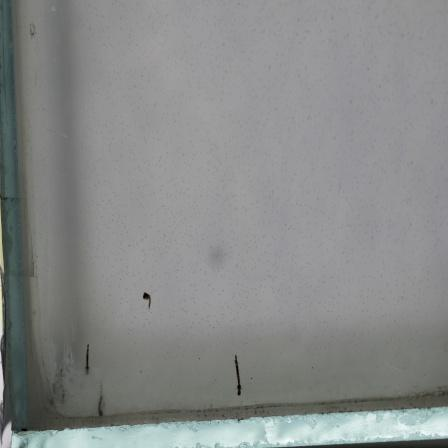Jentik-Nyamuk: (230, 353, 244, 398), (80, 342, 94, 377), (140, 289, 156, 315), (94, 392, 107, 418)
